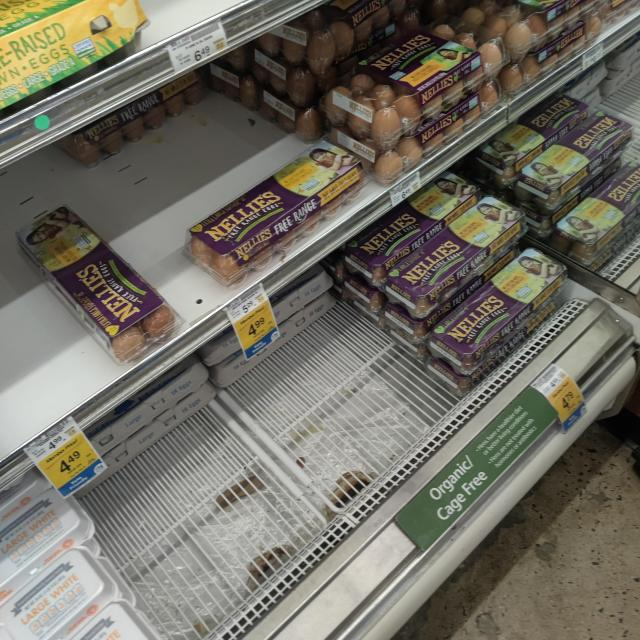Eggs: (317, 19, 570, 157), (5, 205, 182, 364), (184, 136, 376, 276), (371, 182, 533, 324), (424, 246, 562, 373)
